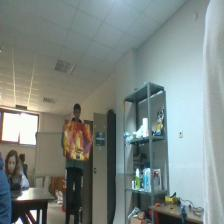fire-poster: (63, 121, 92, 162)
